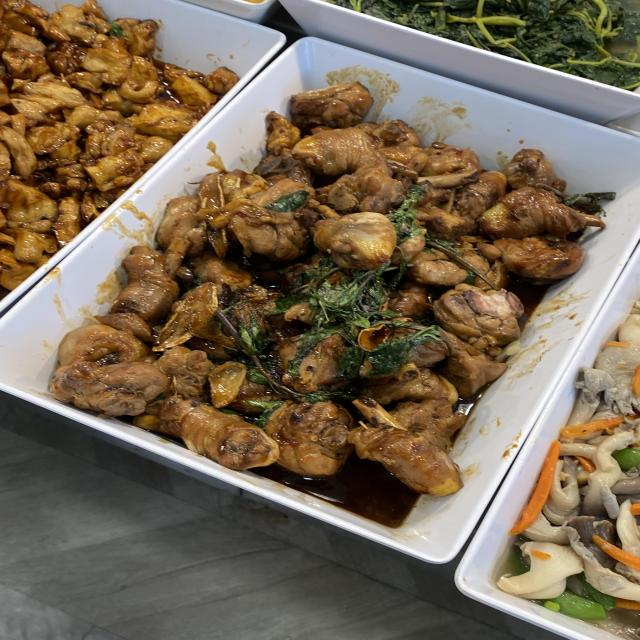three-cup chicken: (218, 153, 540, 346)
